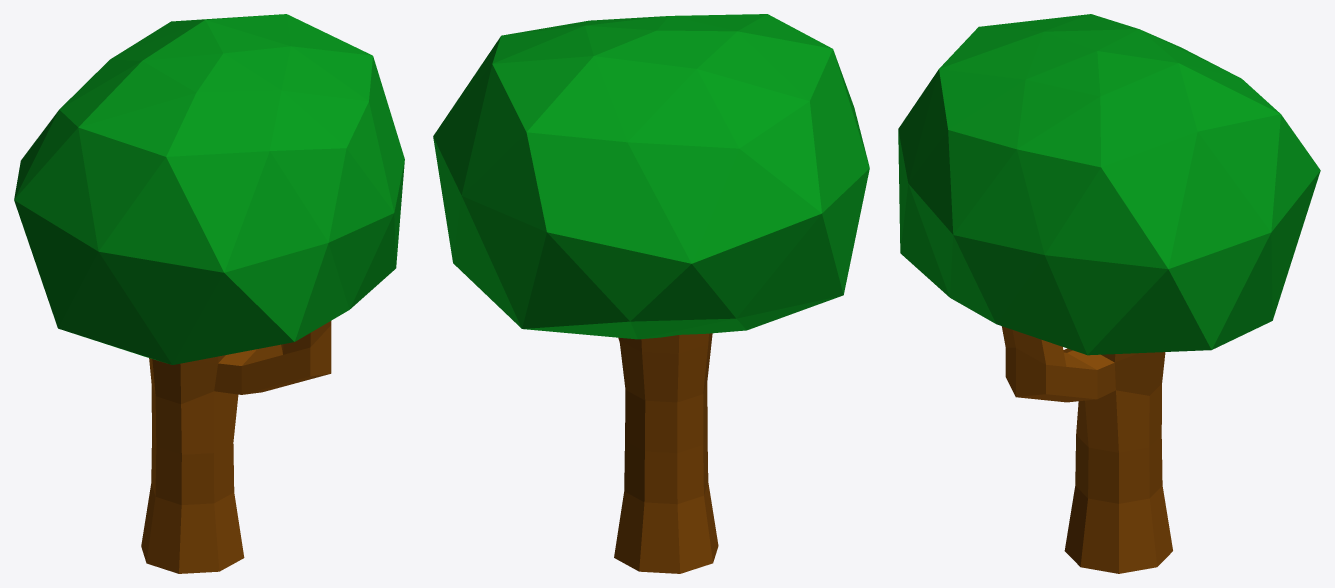
The model's file is tree2.fbx.
The picture shows the model from 3 angles, left to right: view 1: azimuth 30°, elevation 25°; view 2: azimuth 150°, elevation 25°; view 3: azimuth 270°, elevation 25°; orthographic projection.
Visible parts, largest first — view 1: Icosphere, Cylinder; view 2: Icosphere, Cylinder; view 3: Icosphere, Cylinder.
Part boxes in pixels (x1,y1,x2,y2): Icosphere: (14,14,404,364); Cylinder: (141,321,331,573); Icosphere: (433,14,869,339); Cylinder: (614,333,718,573); Icosphere: (898,14,1320,355); Cylinder: (1001,326,1172,573).
Size of the model in its own units: 310 by 400 by 300.
